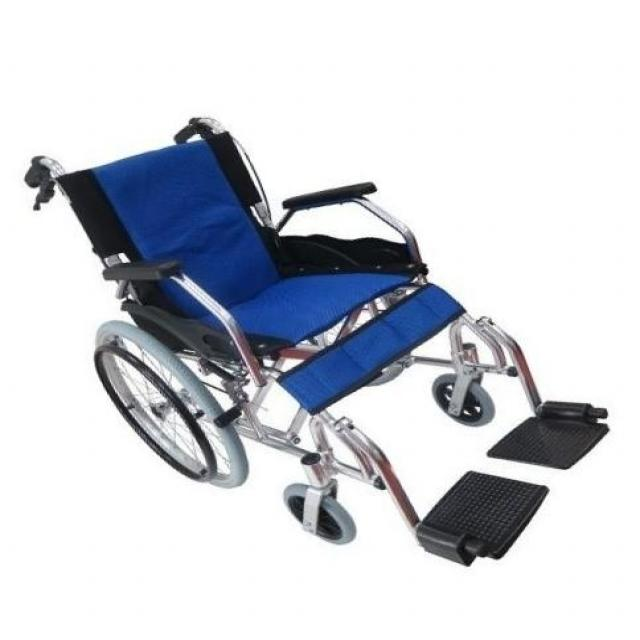wheelchair: (22, 105, 614, 580)
